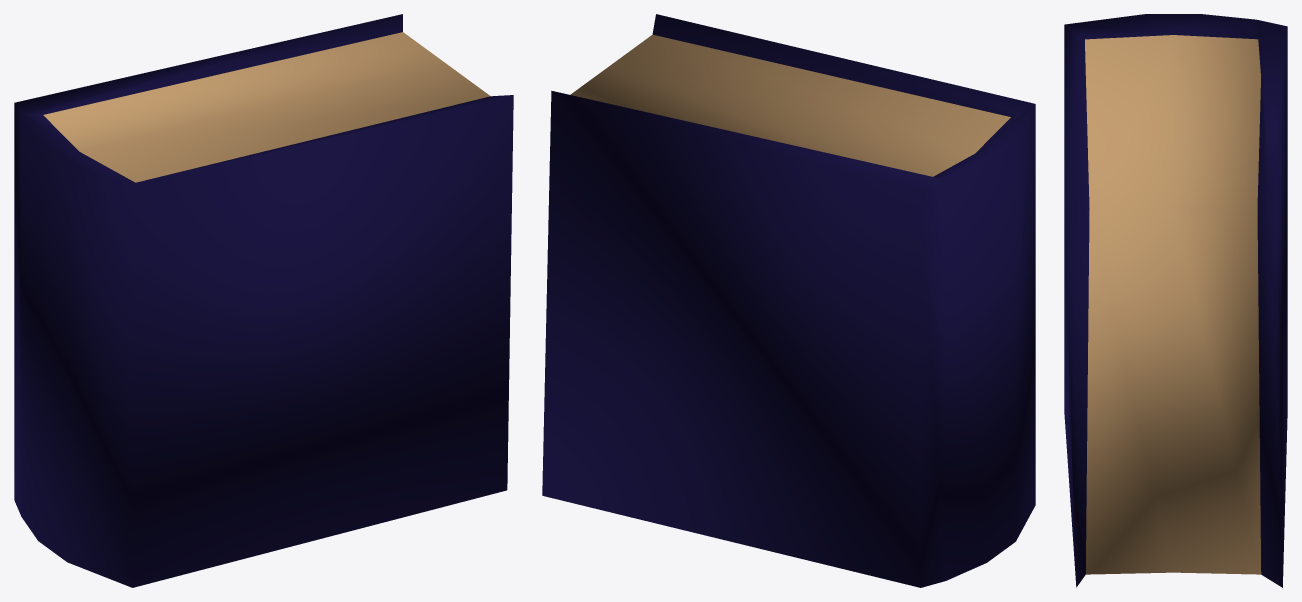
The model's file is book009.fbx.
3 views of the same model, side by side, from view 1: azimuth 30°, elevation 25°; view 2: azimuth 150°, elevation 25°; view 3: azimuth 270°, elevation 25° (orthographic). The views are drawn at different scales.
Parts seen in each view (by area): view 1: Book Variation 009; view 2: Book Variation 009; view 3: Book Variation 009.
Part boxes in pixels (x1,y1,x2,y2): Book Variation 009: (14,14,513,587); Book Variation 009: (542,14,1035,587); Book Variation 009: (1064,14,1287,587).
Bounding box in the file's own units: 0.3782 × 0.3604 × 0.1895.
